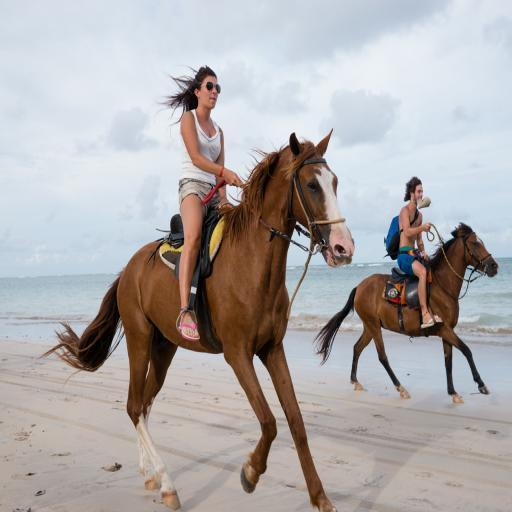horse: (39, 128, 355, 512), (311, 222, 500, 406)
